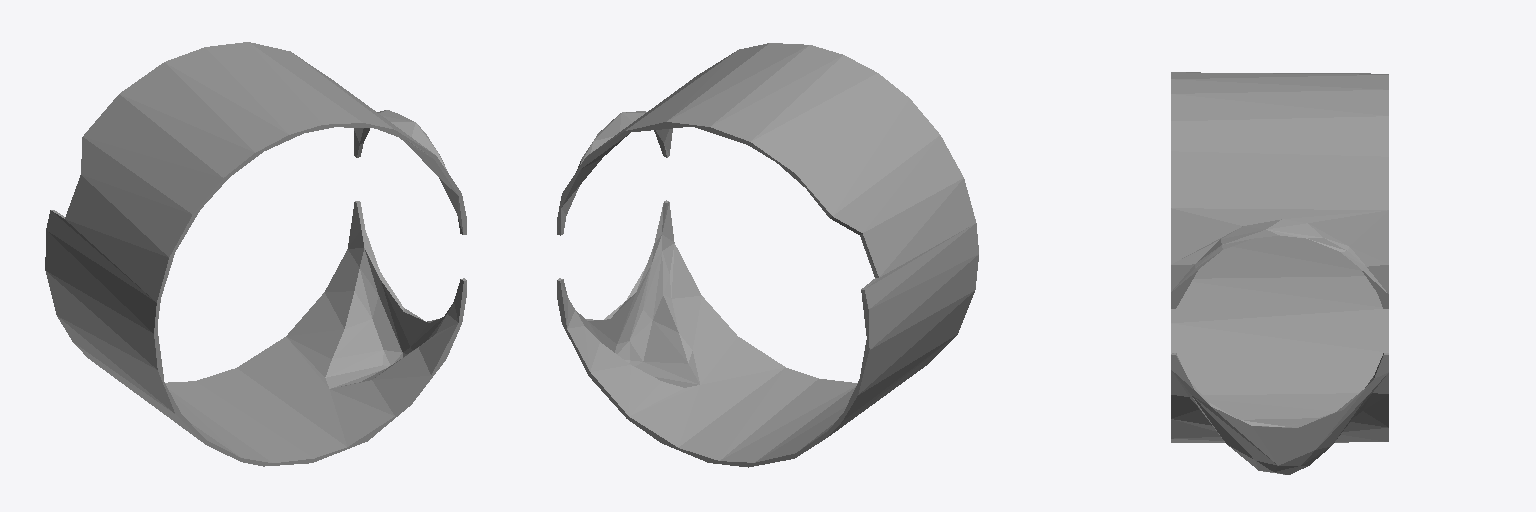
Rendered from r_shoulder_lift_link.OBJ.
3 views of the same model, side by side, from view 1: azimuth 30°, elevation 25°; view 2: azimuth 150°, elevation 25°; view 3: azimuth 270°, elevation 25° (orthographic).
Visible parts, largest first — view 1: /ambf/env/pr2/r_shoulder_lift_link_/ambf/env/pr2/r_shoulder_lift; view 2: /ambf/env/pr2/r_shoulder_lift_link_/ambf/env/pr2/r_shoulder_lift; view 3: /ambf/env/pr2/r_shoulder_lift_link_/ambf/env/pr2/r_shoulder_lift.
Boxes of the visible parts, <box> form: /ambf/env/pr2/r_shoulder_lift_link_/ambf/env/pr2/r_shoulder_lift: <box>45,42,466,466</box>; /ambf/env/pr2/r_shoulder_lift_link_/ambf/env/pr2/r_shoulder_lift: <box>557,43,978,467</box>; /ambf/env/pr2/r_shoulder_lift_link_/ambf/env/pr2/r_shoulder_lift: <box>1171,72,1388,474</box>.
Bounding box in the file's own units: 0.2483 × 0.2547 × 0.15.